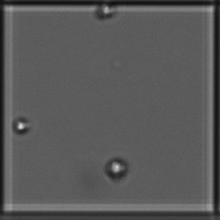Living Cell: (102, 155, 130, 180), (95, 2, 120, 20), (11, 116, 32, 135)
